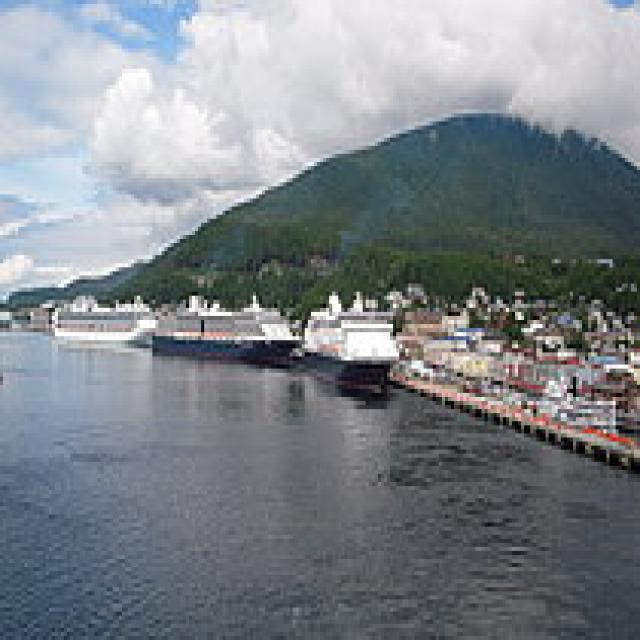Ship: (144, 285, 312, 374)
